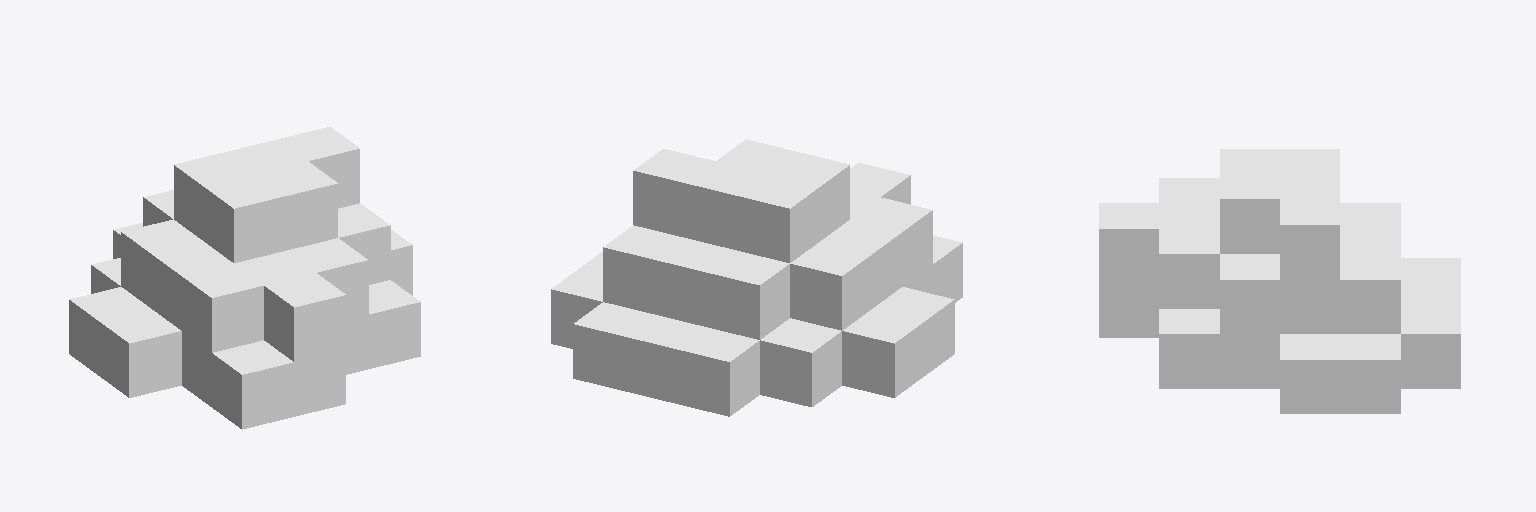
Rendered from Rock-3.obj.
3 renders of one model, left to right at view 1: azimuth 30°, elevation 25°; view 2: azimuth 150°, elevation 25°; view 3: azimuth 270°, elevation 25°, orthographic.
Parts seen in each view (by area): view 1: object 1; view 2: object 1; view 3: object 1.
Boxes of the visible parts, box(x1,y1,x2,y2) form: object 1: box(69, 127, 420, 429); object 1: box(551, 139, 962, 416); object 1: box(1099, 149, 1460, 413).
Size of the model in its own units: 0.6 by 0.3 by 0.6.